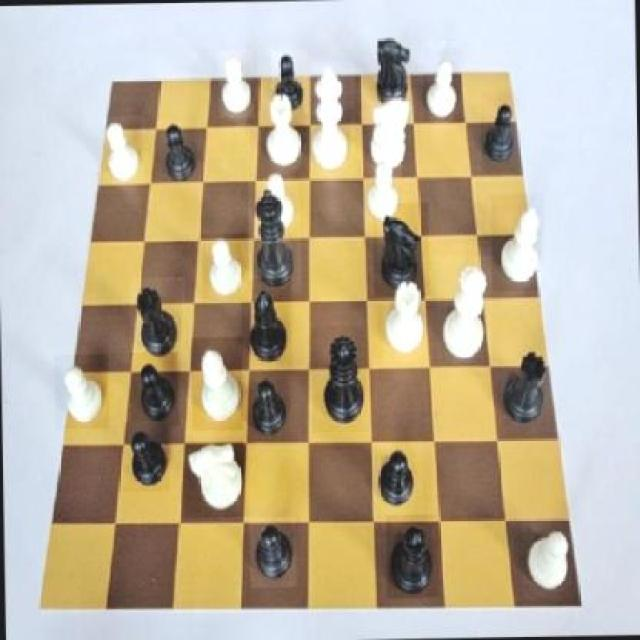bishop: (240, 278, 292, 369), (386, 514, 440, 598)
black-bishop: (248, 181, 300, 294)
black-king: (372, 203, 430, 297), (366, 24, 416, 110)
black-knight: (372, 438, 423, 518), (243, 368, 291, 448), (129, 352, 179, 428), (249, 517, 296, 588), (122, 420, 168, 492), (480, 92, 519, 173), (158, 119, 201, 182), (270, 50, 308, 114)
black-pawn: (311, 326, 374, 433)
black-queen: (497, 343, 554, 431), (128, 277, 185, 363)
black-rook: (490, 194, 544, 291), (190, 337, 244, 431)
white-bishop: (309, 61, 357, 180)
white-king: (182, 438, 248, 518), (365, 89, 417, 173)
white-knight: (54, 354, 109, 429), (523, 518, 574, 598), (101, 116, 146, 186), (202, 234, 248, 301), (423, 48, 462, 125), (363, 158, 405, 228), (258, 168, 302, 234), (218, 51, 254, 118)
white-pawn: (436, 255, 492, 368)
white-queen: (382, 272, 428, 366), (263, 88, 304, 170)
